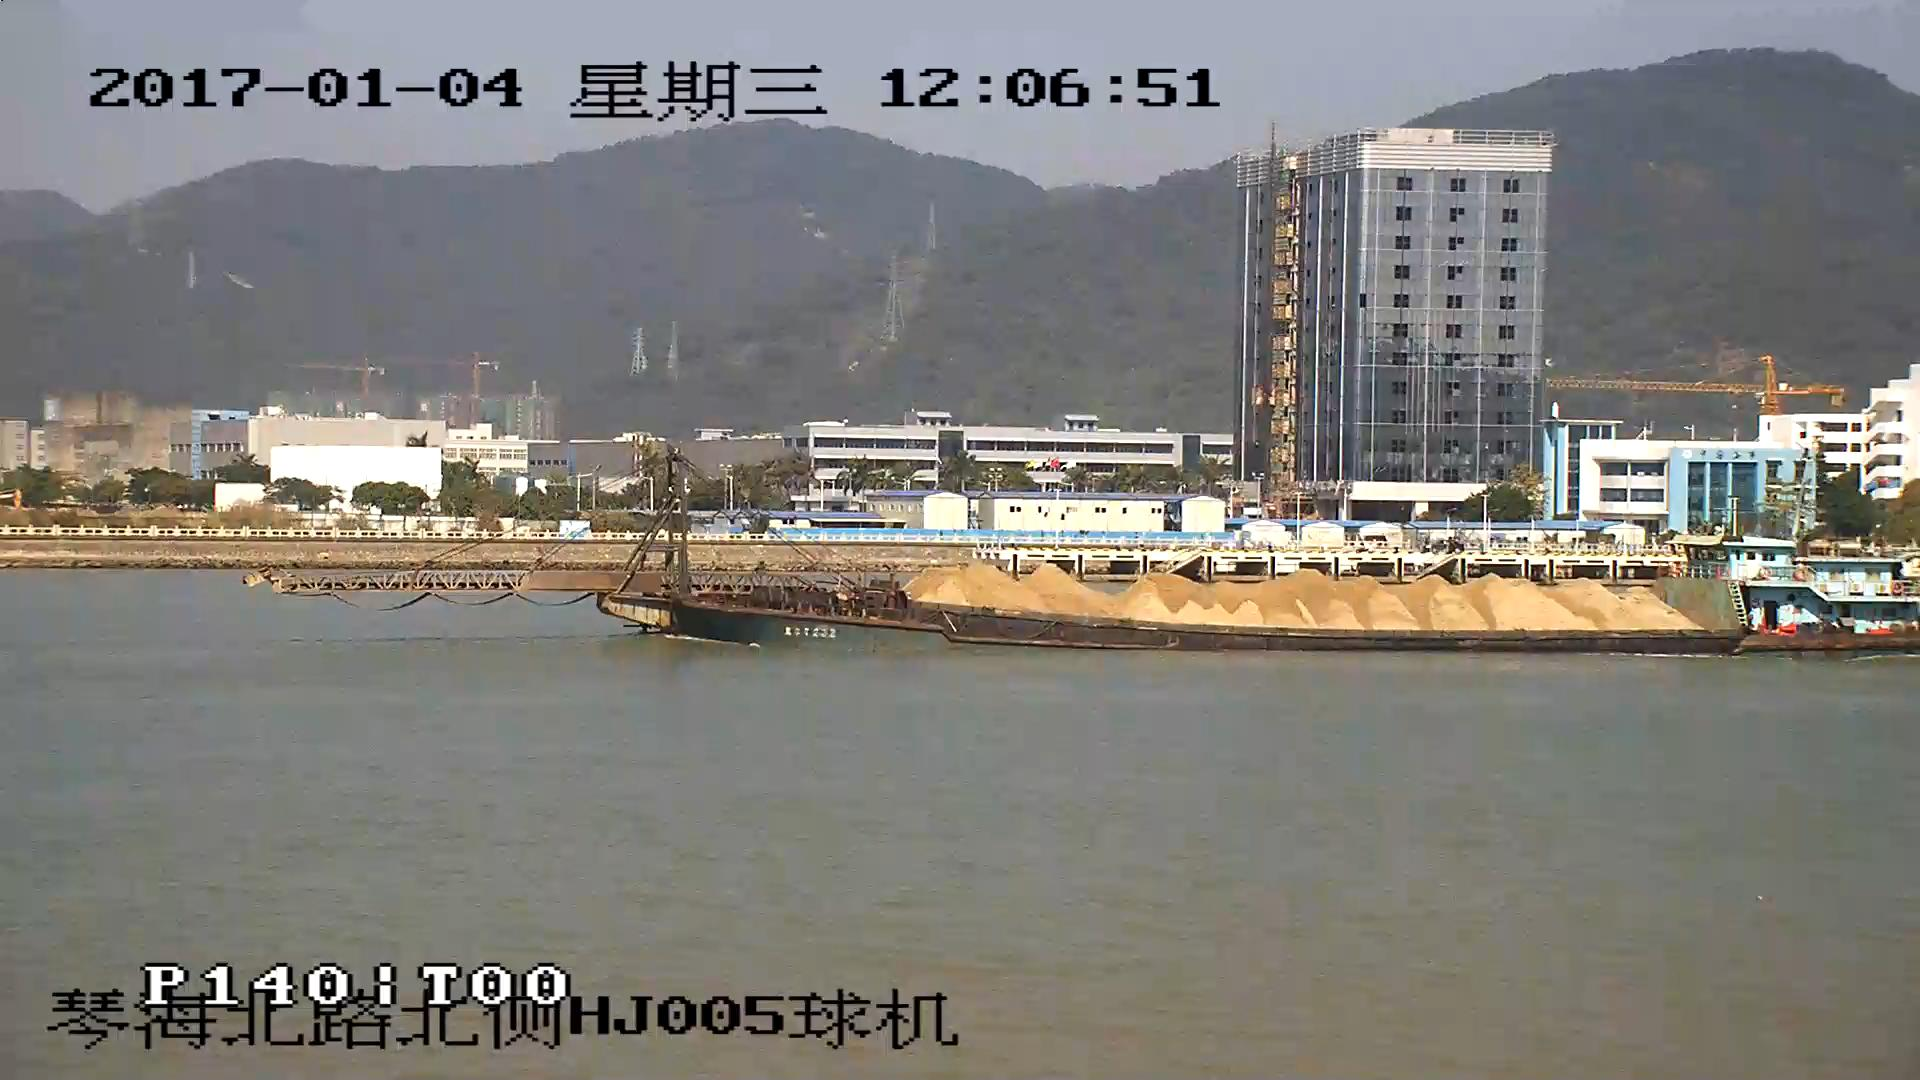ore carrier: (255, 457, 1920, 653)
